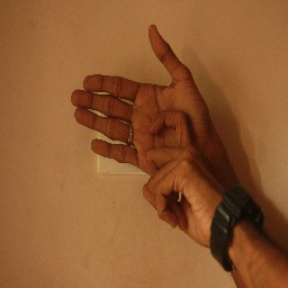R: (67, 23, 222, 222)
